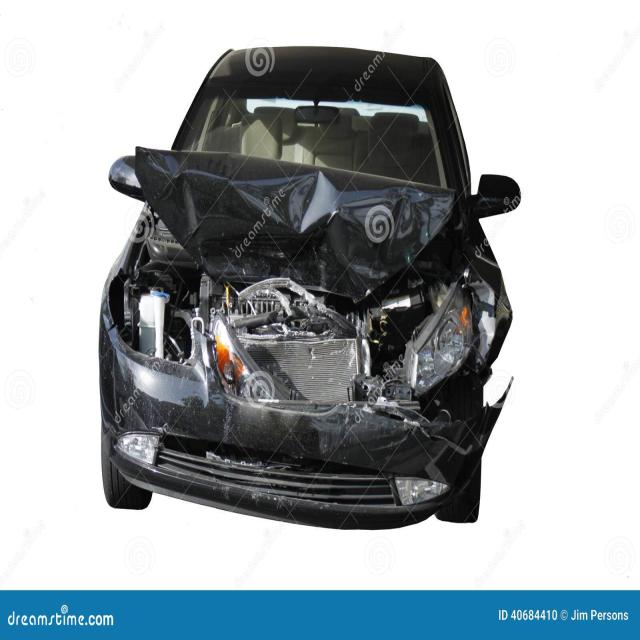crush: (104, 145, 513, 529)
